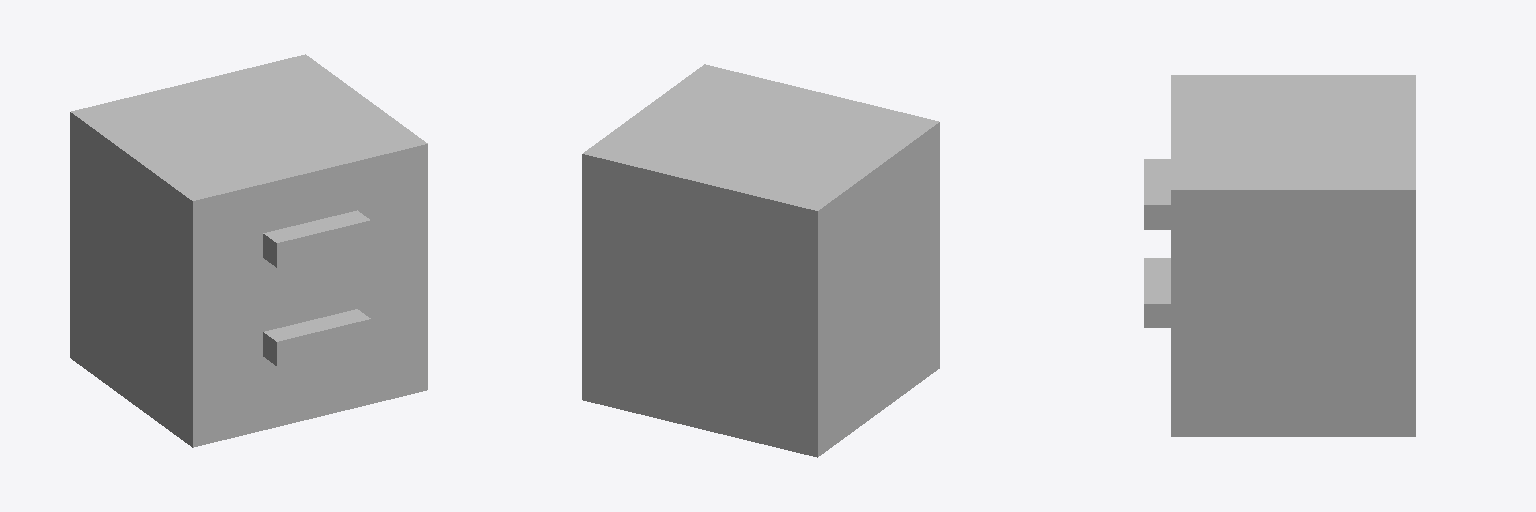
Rendered from Cabinet.obj.
3 views of the same model, side by side, from view 1: azimuth 30°, elevation 25°; view 2: azimuth 150°, elevation 25°; view 3: azimuth 270°, elevation 25° (orthographic).
Parts seen in each view (by area): view 1: object 1; view 2: object 1; view 3: object 1.
Boxes of the visible parts, x1=… form: object 1: x1=70, y1=54, x2=427, y2=447; object 1: x1=582, y1=64, x2=939, y2=457; object 1: x1=1144, y1=75, x2=1415, y2=436.
Bounding box in the file's own units: 1 × 1 × 1.